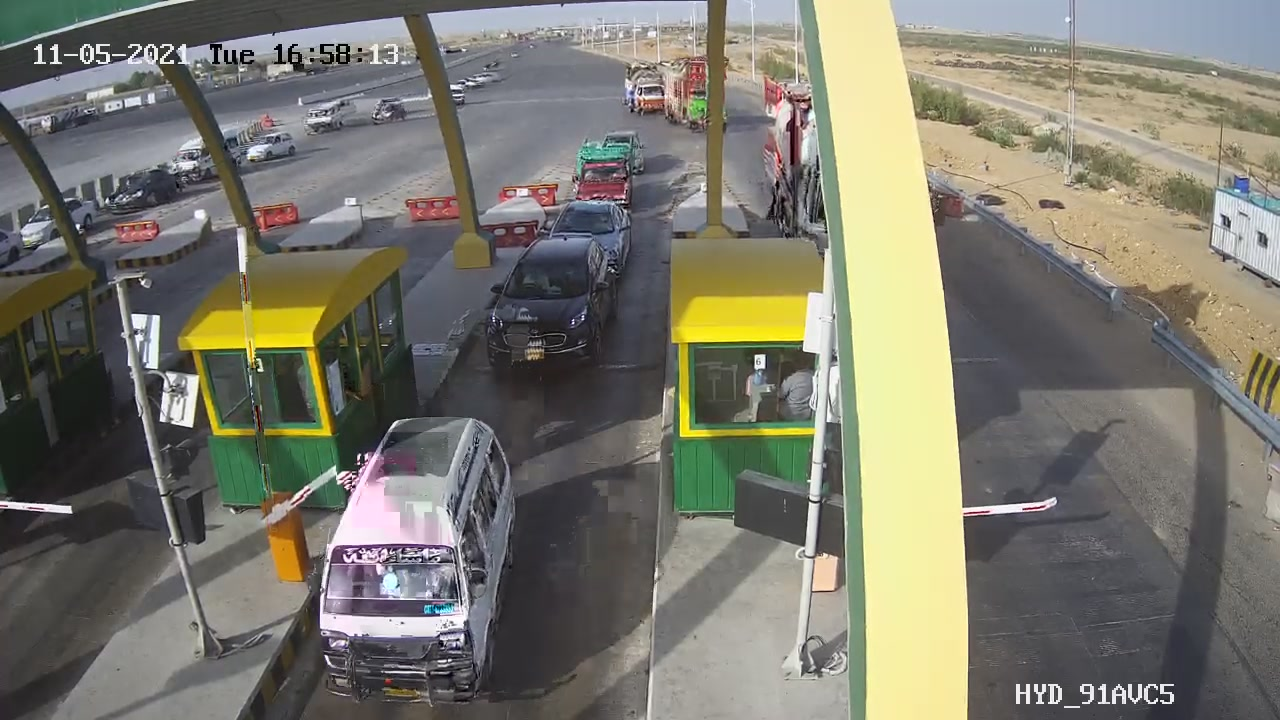F1: (474, 224, 628, 386)
